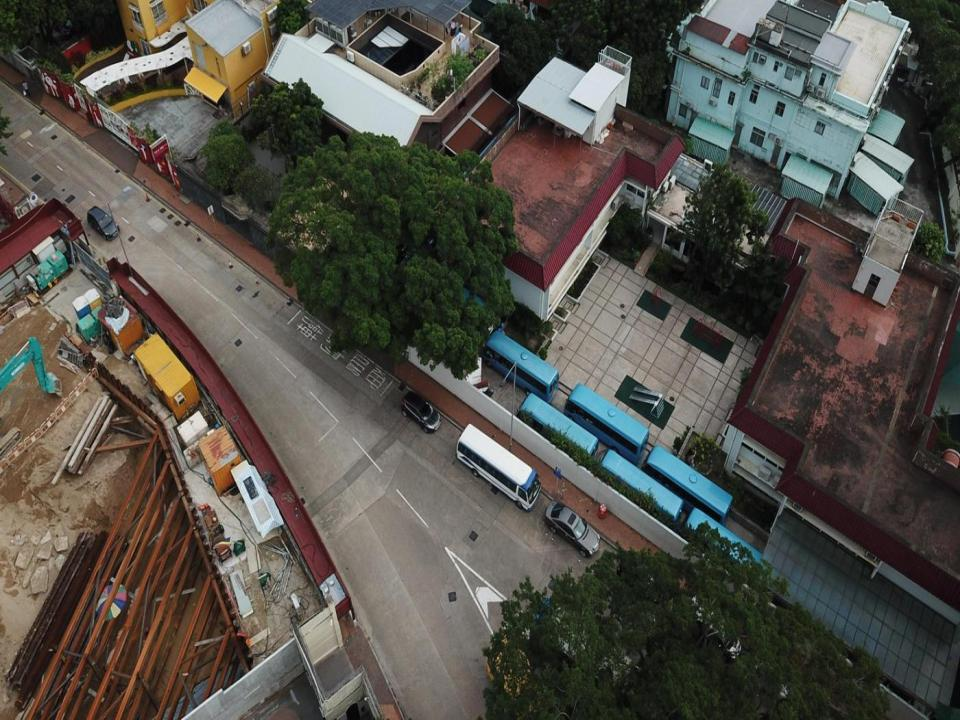bus: (785, 570, 881, 669), (685, 503, 770, 593), (455, 423, 540, 509), (644, 447, 732, 527), (563, 385, 648, 464), (600, 449, 684, 526), (410, 253, 490, 330), (516, 391, 598, 465), (484, 327, 558, 404)
car: (544, 500, 599, 556), (403, 392, 440, 433)
van: (87, 206, 119, 242)
